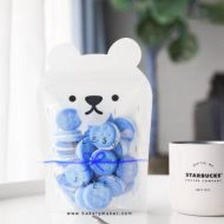snack: (29, 31, 159, 221)
